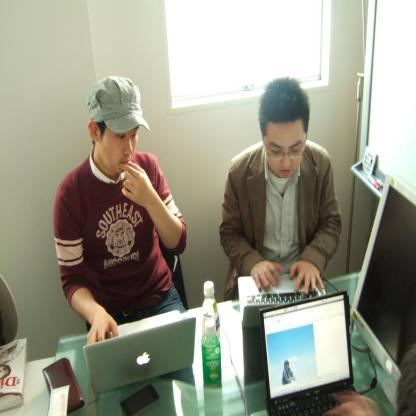board: (252, 296, 357, 416), (82, 310, 196, 396), (236, 271, 327, 330), (201, 318, 221, 388), (203, 281, 221, 337)
